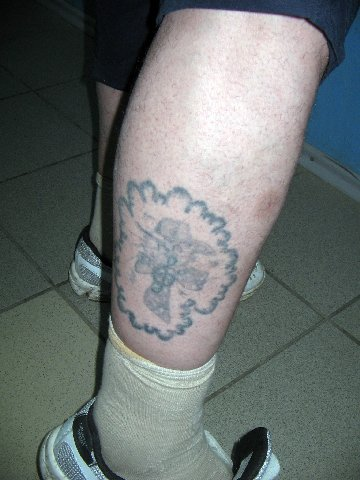tatu8_kot: (107, 177, 241, 346)
